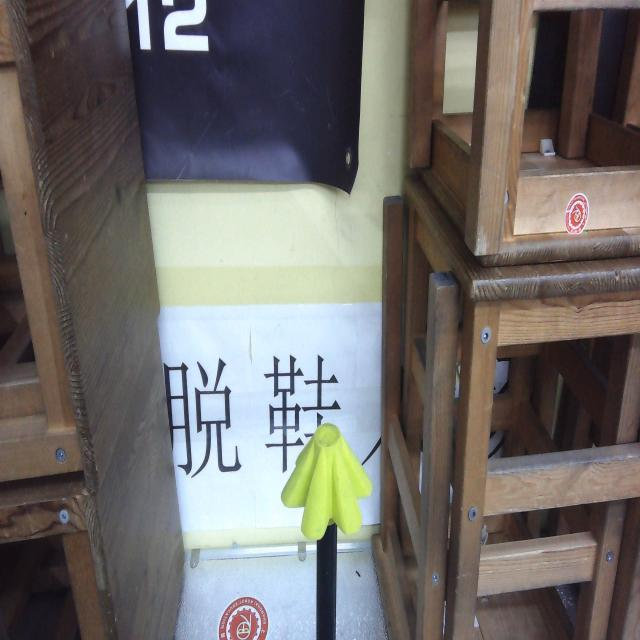Yellow-Stake-Head: (279, 423, 373, 543)
